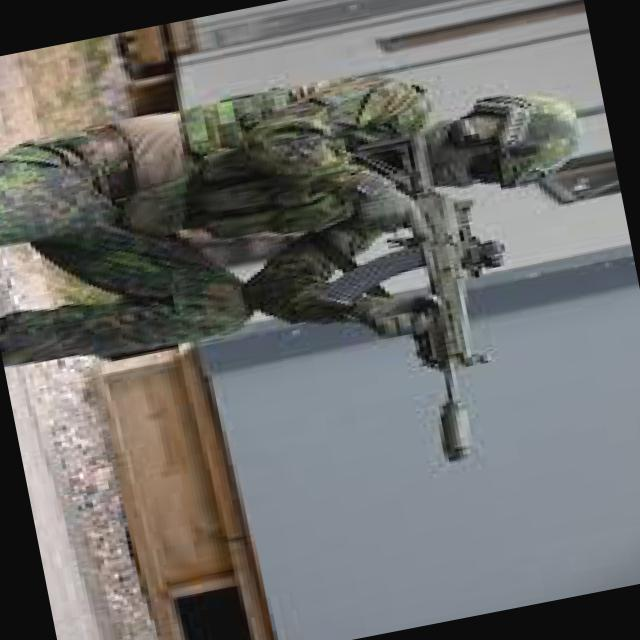long weapon: (322, 126, 499, 467)
